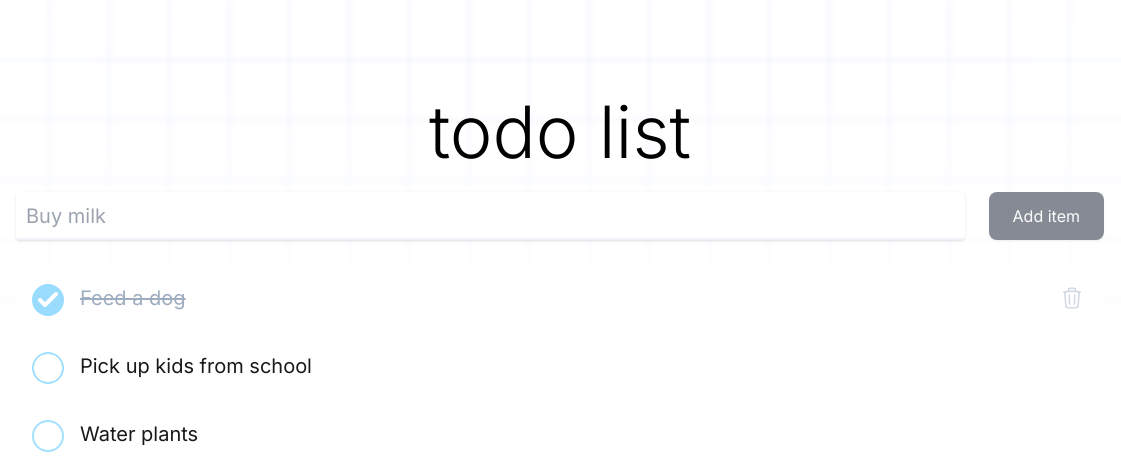
should remove the list when clicking the trash icon
Step 1. Click the 2nd button → (1072, 298), box top-left (1056, 282), bottom-right (1088, 314)
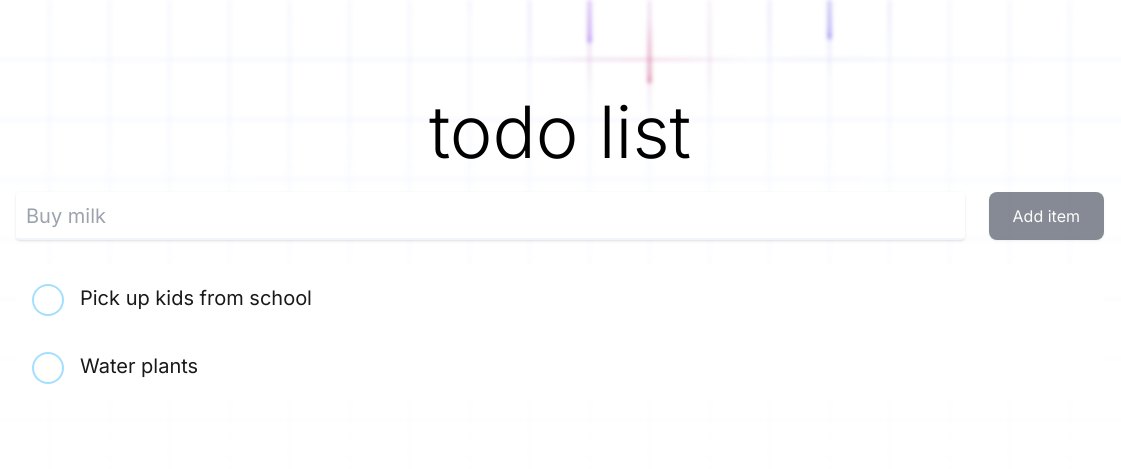
Expected: the text showing "Feed a dog" is gone
